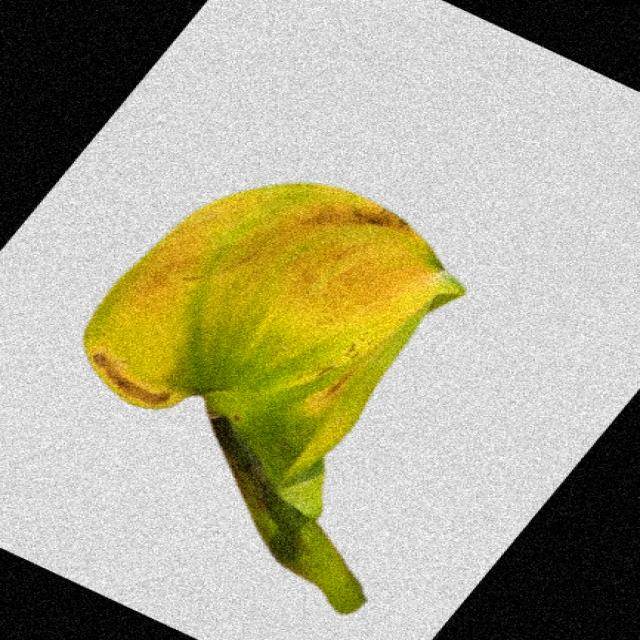daun berpenyakit kuning: (85, 184, 465, 614)
